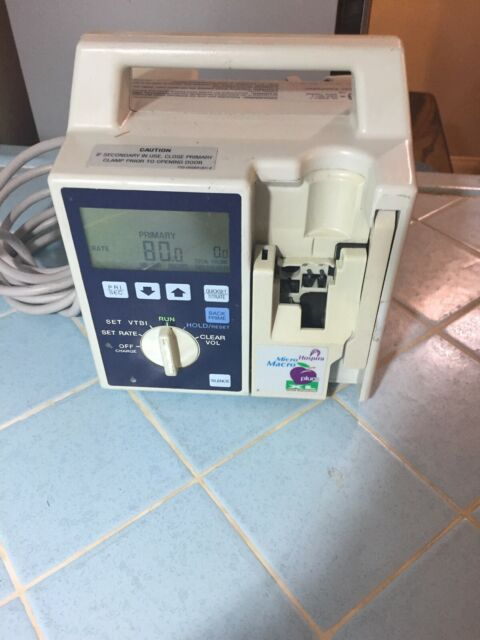plumxl1: (53, 31, 417, 401)
